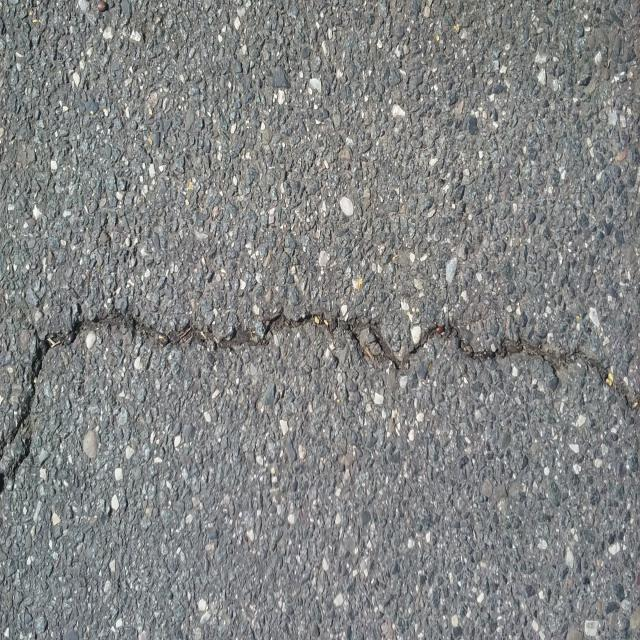transverse: (0, 286, 635, 492)
